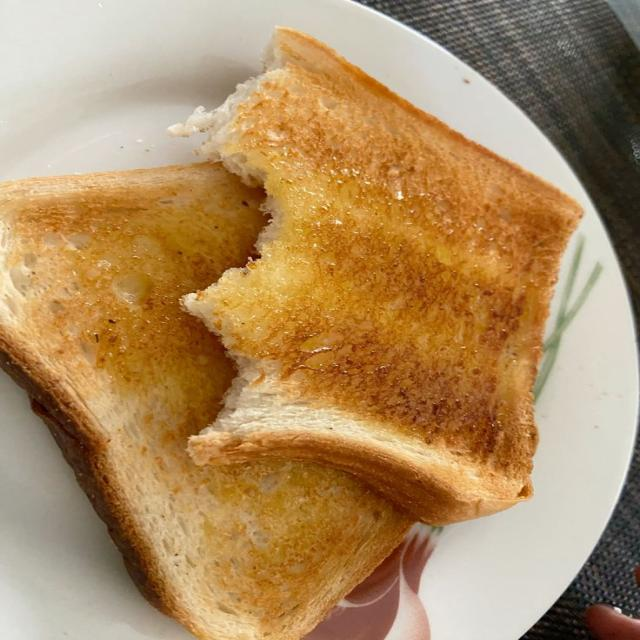toast bread: (0, 163, 433, 639), (174, 28, 581, 525)
